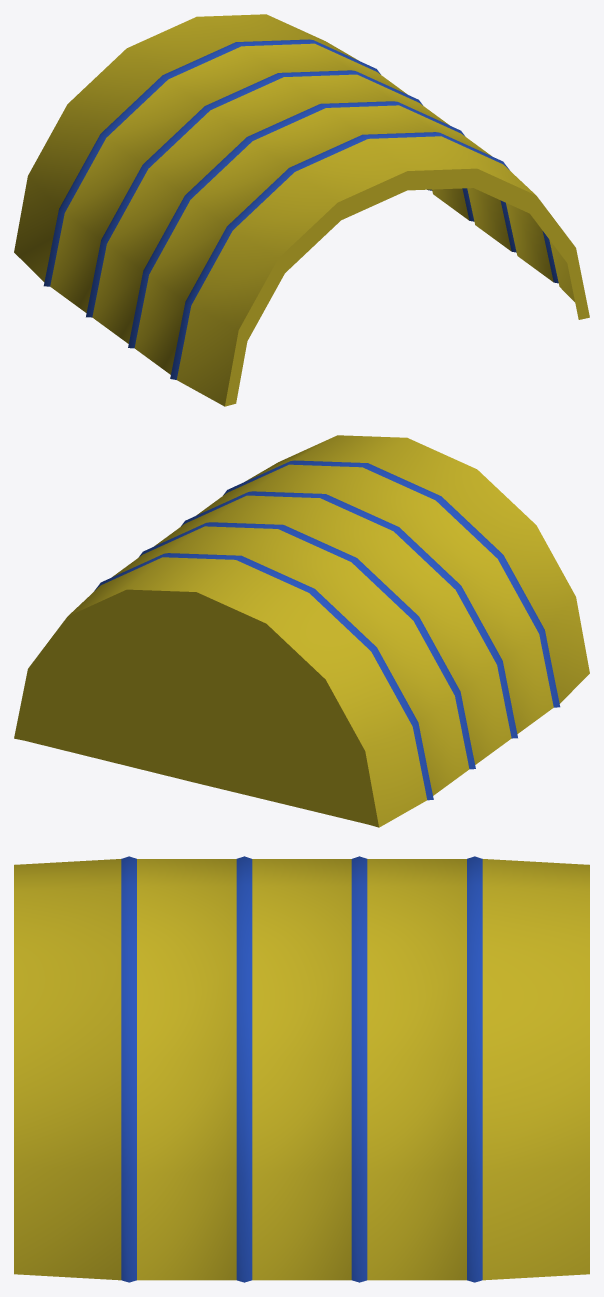
The model's file is mesh_serre.fbx.
3 views of the same model, one above another, from view 1: azimuth 30°, elevation 25°; view 2: azimuth 150°, elevation 25°; view 3: azimuth 270°, elevation 25° (orthographic). The views are drawn at different scales.
Parts seen in each view (by area): view 1: serre; view 2: serre; view 3: serre.
Part boxes in pixels (bbox=[...]): serre: bbox=[14, 14, 589, 406]; serre: bbox=[14, 435, 589, 827]; serre: bbox=[14, 856, 589, 1282].
Size of the model in its own units: 107 by 51.31 by 100.
